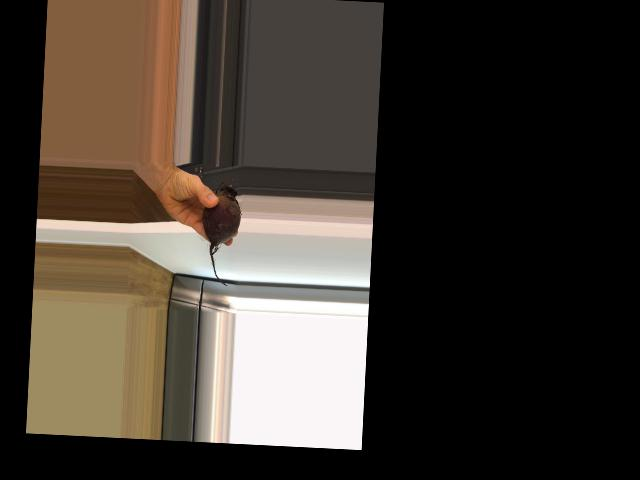beet: (199, 180, 242, 286)
